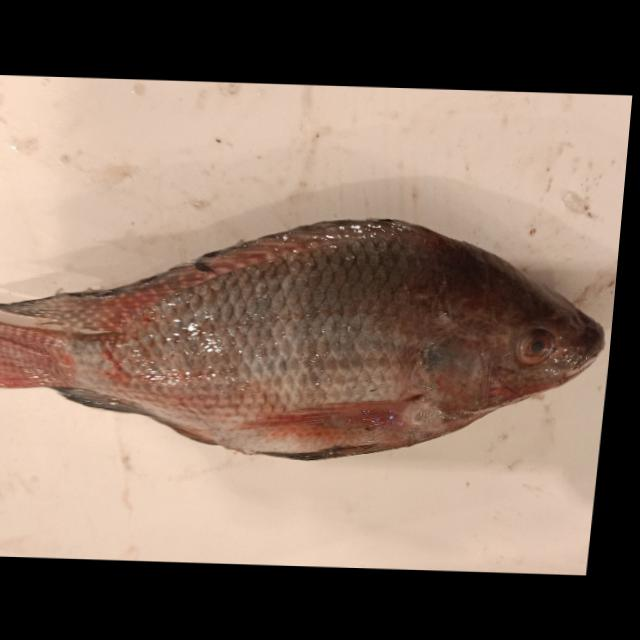Tilapia: (0, 204, 617, 471)
